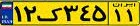character: (37, 3, 63, 24), (63, 3, 80, 23), (91, 2, 107, 23), (23, 2, 37, 24), (79, 3, 92, 23), (12, 2, 23, 24), (125, 6, 136, 23), (113, 7, 124, 22)
